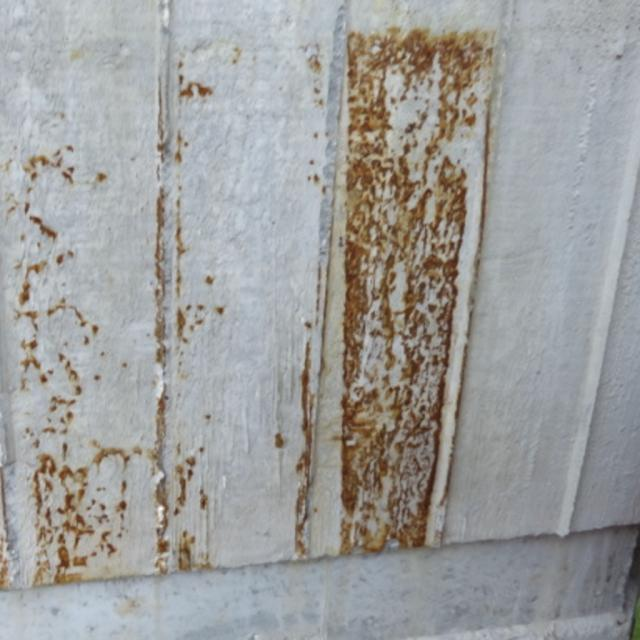D0w0: (338, 26, 489, 549)
